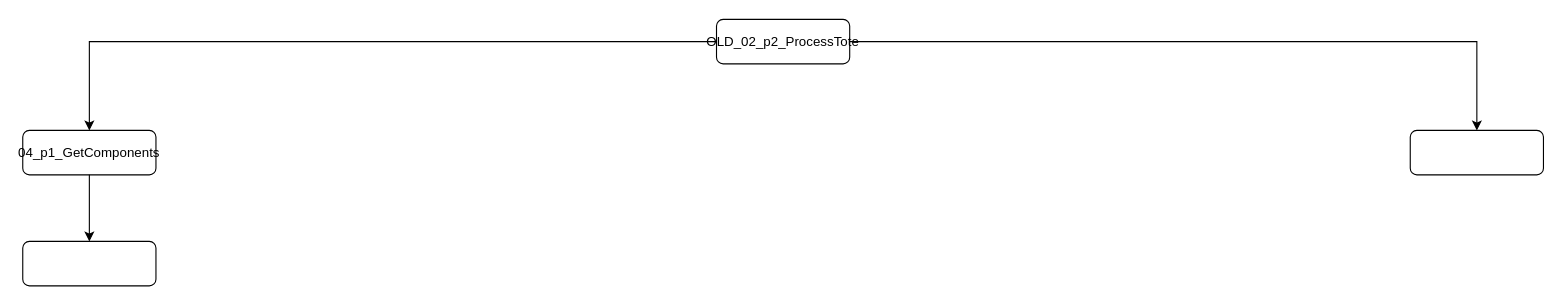
This 1563x305 diagram has some shape labels left out. The shapes that lost their labels are listed below. From the top down, each one's centre as x and y in pixels, then its label:
point (1476, 152): __picking-confirmation
point (89, 263): 00_GetShoeCare
